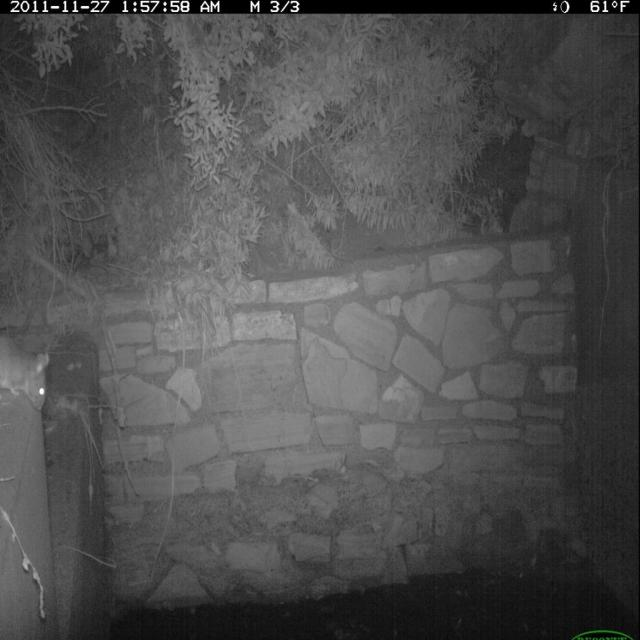rodent: (1, 332, 54, 420)
